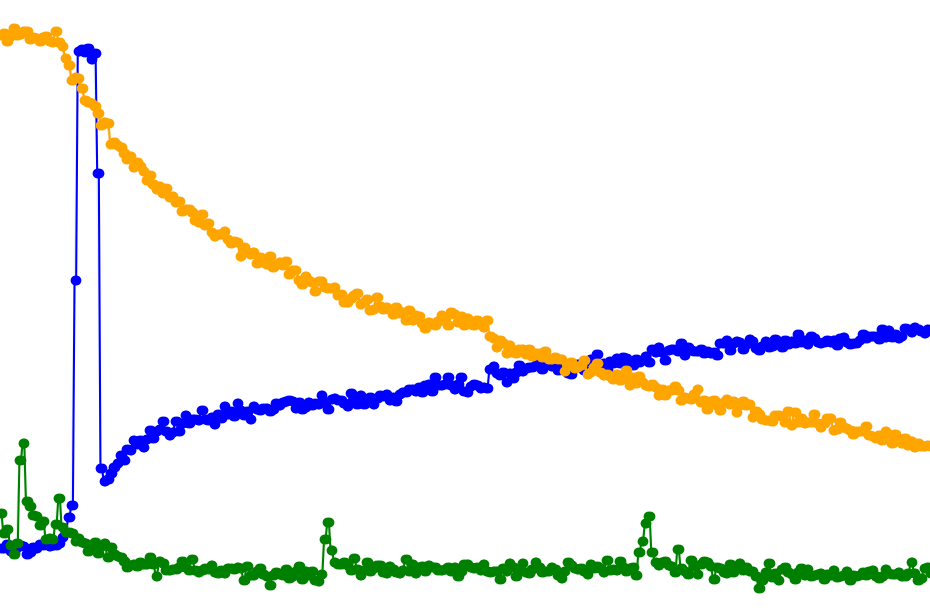Condensation (CO2): (77, 0, 116, 616)
Low O2: (661, 0, 930, 616)
Normal: (116, 0, 930, 616), (388, 0, 930, 616), (0, 0, 388, 616), (388, 0, 661, 616), (116, 0, 388, 616), (661, 0, 930, 616), (0, 0, 116, 616), (0, 0, 77, 616)
O2 Problem: (388, 0, 930, 616)
